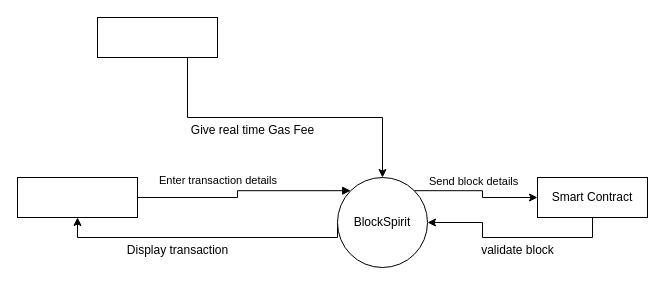
Image size: 665x285. Some labels were removed from this diagram. The centre of each missing label's shape, as x and y in pixels:
"Metamask" goes at point (157, 37).
"Trader" goes at point (77, 197).
